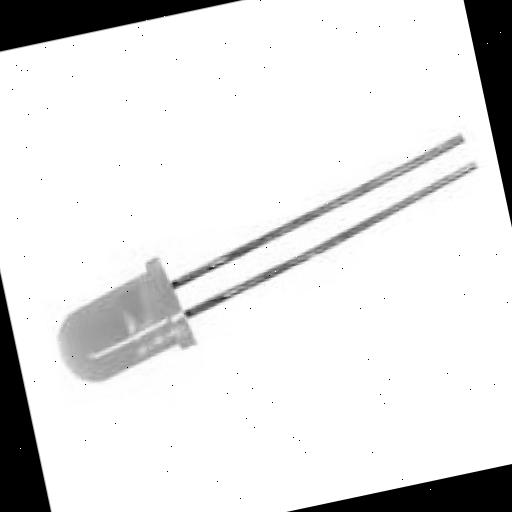LED: (19, 77, 512, 444)
